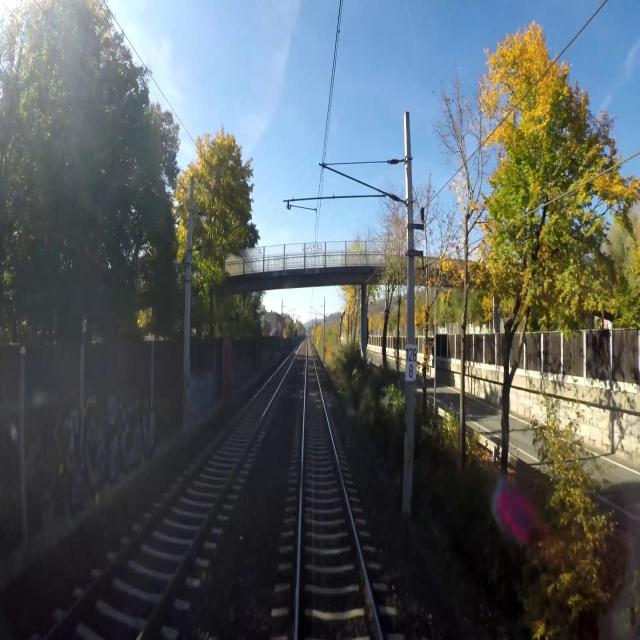rail-track: (50, 352, 295, 639), (299, 346, 379, 639)
